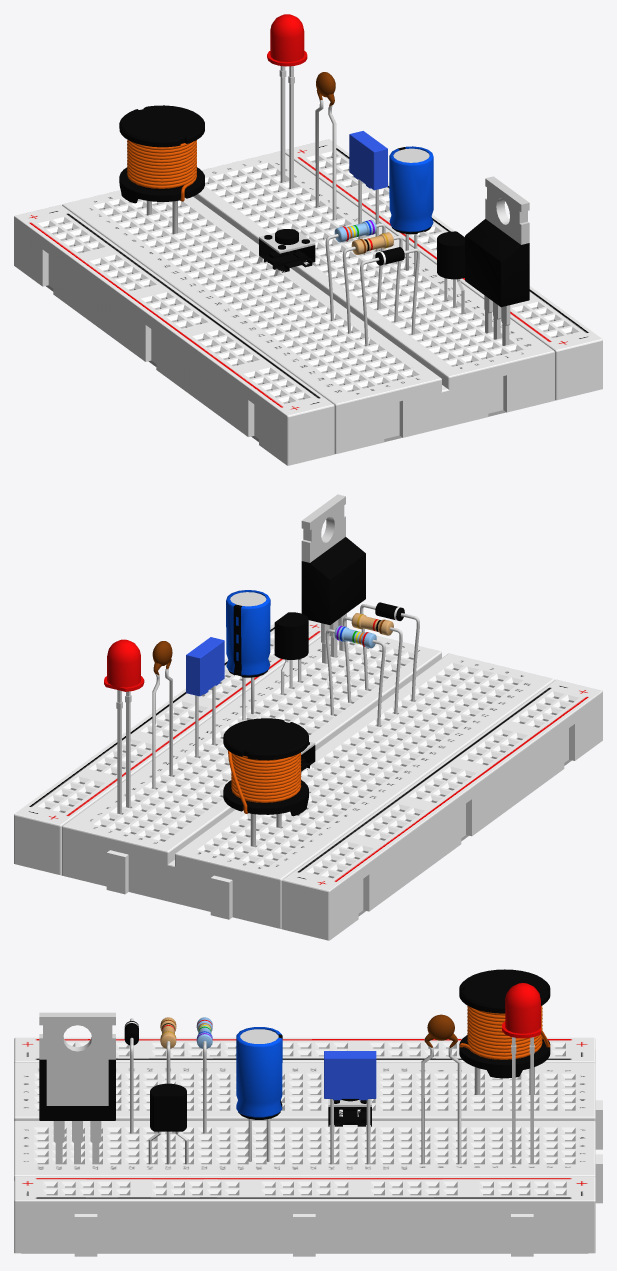
The picture shows the model from 3 angles, top to bottom: view 1: azimuth 30°, elevation 25°; view 2: azimuth 150°, elevation 25°; view 3: azimuth 270°, elevation 25°; orthographic projection. The views are drawn at different scales.
Visible parts, largest first — view 1: Breadboard_1, TO-220_20, Inductor-Radial_40, Capacitor-Cylindrical_8, Wire.001_39, Heatsink_18, Capacitor-Film_24, Diode-Light-Emitting_4, Button_35, Legs_2, TO-92_17, Legs.015_26 (+4 smaller); view 2: Breadboard_1, TO-220_20, Inductor-Radial_40, Capacitor-Cylindrical_8, Wire.001_39, Heatsink_18, Capacitor-Film_24, Diode-Light-Emitting_4, TO-92_17, Legs_2, Legs.015_26, Legs.011_10 (+4 smaller); view 3: Breadboard_1, Heatsink_18, Inductor-Radial_40, Capacitor-Cylindrical_8, Capacitor-Film_24, Wire.001_39, TO-220_20, Diode-Light-Emitting_4, TO-92_17, Legs.005_19, Legs.015_26, Legs_2 (+9 smaller).
Part boxes in pixels (x1=…): Breadboard_1: x1=14, y1=139, x2=602, y2=465; TO-220_20: x1=465, y1=219, x2=529, y2=307; Inductor-Radial_40: x1=119, y1=105, x2=204, y2=203; Capacitor-Cylindrical_8: x1=389, y1=146, x2=433, y2=234; Wire.001_39: x1=127, y1=140, x2=196, y2=201; Heatsink_18: x1=485, y1=176, x2=529, y2=244; Capacitor-Film_24: x1=349, y1=131, x2=387, y2=190; Diode-Light-Emitting_4: x1=267, y1=14, x2=307, y2=66; Button_35: x1=259, y1=228, x2=315, y2=272; Legs_2: x1=279, y1=66, x2=294, y2=189; TO-92_17: x1=437, y1=231, x2=464, y2=279; Legs.015_26: x1=315, y1=98, x2=336, y2=220; Breadboard_1: x1=14, y1=620, x2=602, y2=940; TO-220_20: x1=301, y1=537, x2=365, y2=624; Inductor-Radial_40: x1=223, y1=718, x2=308, y2=816; Capacitor-Cylindrical_8: x1=226, y1=590, x2=270, y2=677; Wire.001_39: x1=228, y1=750, x2=301, y2=813; Heatsink_18: x1=301, y1=494, x2=345, y2=562; Capacitor-Film_24: x1=186, y1=637, x2=224, y2=696; Diode-Light-Emitting_4: x1=104, y1=639, x2=144, y2=691; TO-92_17: x1=274, y1=612, x2=308, y2=659; Legs_2: x1=116, y1=690, x2=131, y2=814; Legs.015_26: x1=152, y1=667, x2=172, y2=789; Legs.011_10: x1=325, y1=629, x2=385, y2=726; Breadboard_1: x1=14, y1=1037, x2=602, y2=1256; Heatsink_18: x1=39, y1=1012, x2=115, y2=1105; Inductor-Radial_40: x1=459, y1=969, x2=550, y2=1078; Capacitor-Cylindrical_8: x1=236, y1=1027, x2=282, y2=1119; Capacitor-Film_24: x1=324, y1=1051, x2=376, y2=1100; Wire.001_39: x1=459, y1=1006, x2=550, y2=1059; TO-220_20: x1=39, y1=1059, x2=115, y2=1120; Diode-Light-Emitting_4: x1=502, y1=983, x2=540, y2=1038; TO-92_17: x1=150, y1=1083, x2=186, y2=1131; Legs.005_19: x1=53, y1=1121, x2=101, y2=1164; Legs.015_26: x1=421, y1=1045, x2=461, y2=1164; Legs_2: x1=511, y1=1037, x2=534, y2=1164.
Bounding box in the file's own units: 0.0542 × 0.0353 × 0.081.
Materials: 39 (1 with a texture image).
